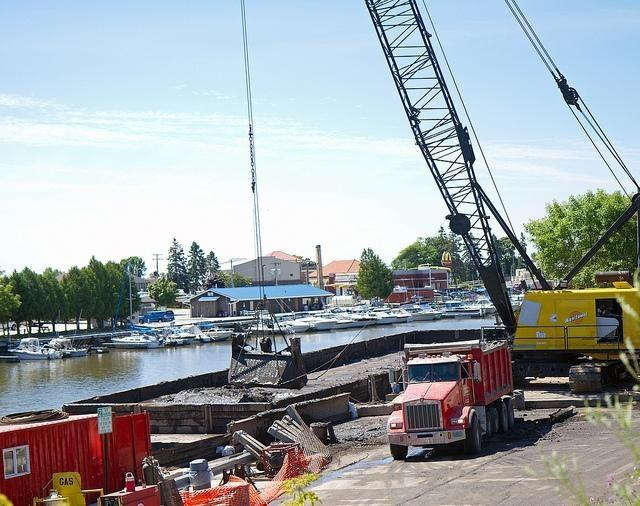truck: (0, 412, 165, 506), (388, 344, 518, 455), (509, 287, 640, 382), (138, 312, 174, 324), (443, 287, 463, 293)
